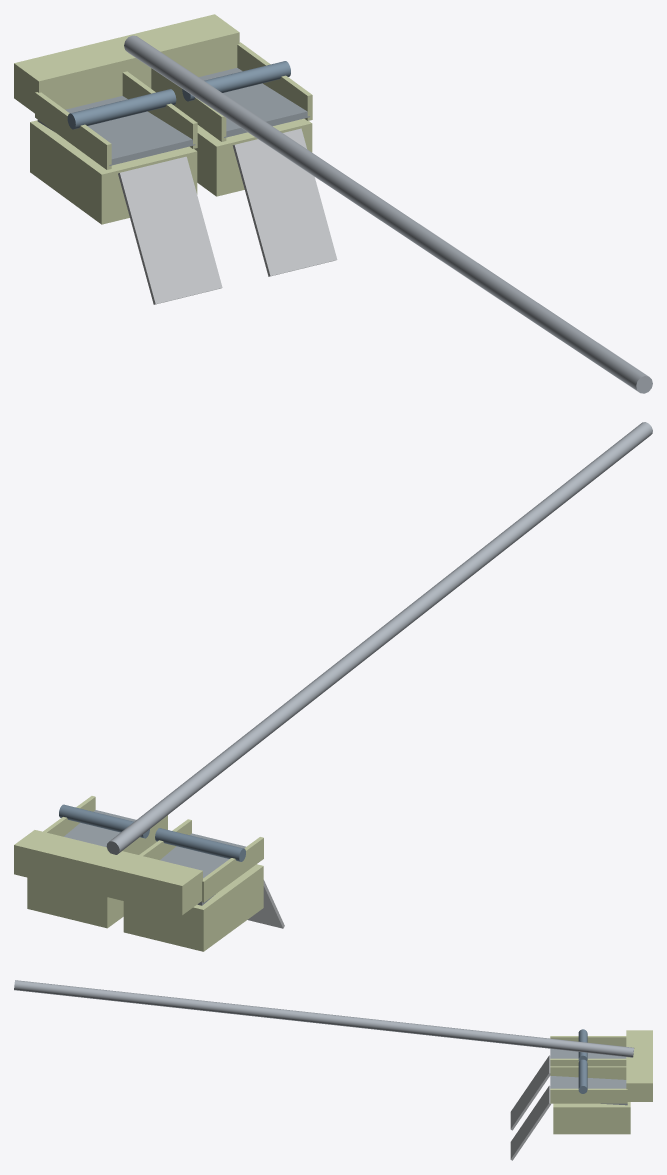
The model's file is shakers.glb.
3 views of the same model, one above another, from view 1: azimuth 30°, elevation 25°; view 2: azimuth 150°, elevation 25°; view 3: azimuth 270°, elevation 25° (orthographic). The views are drawn at different scales.
Size of the model in its own units: 4.5 by 5.19 by 21.47.
